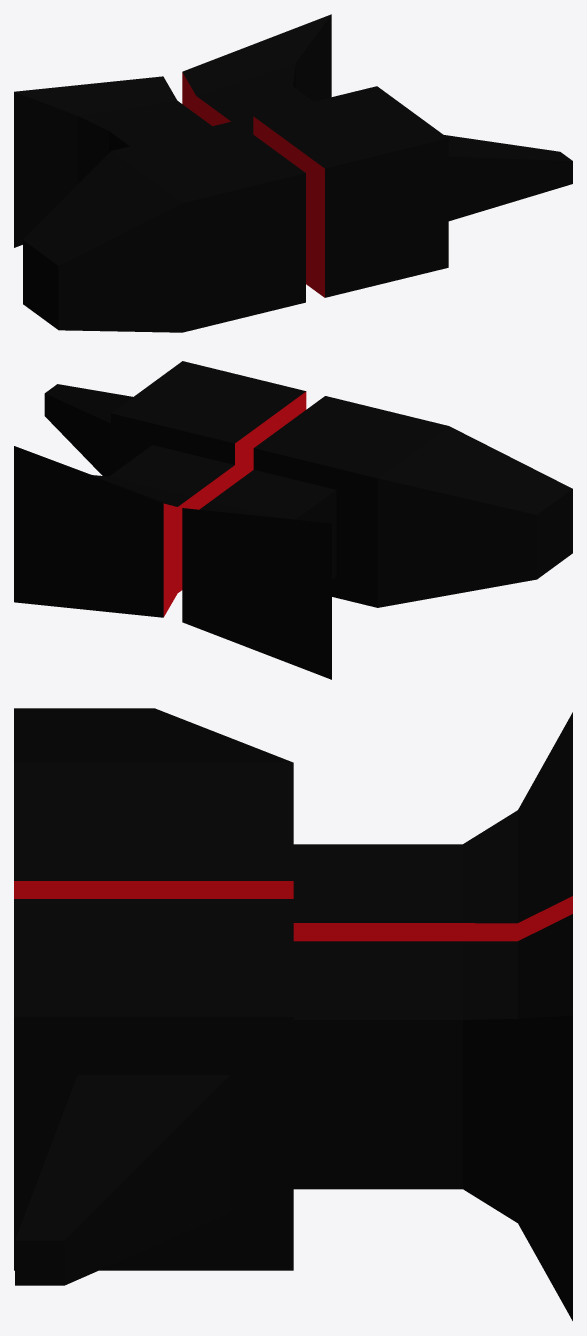
Rendered from ors (1).fbx.
The picture shows the model from 3 angles, top to bottom: view 1: azimuth 30°, elevation 25°; view 2: azimuth 150°, elevation 25°; view 3: azimuth 270°, elevation 25°; orthographic projection. The views are drawn at different scales.
Parts seen in each view (by area): view 1: Cube, Cube.001; view 2: Cube, Cube.001; view 3: Cube.001, Cube.
Boxes of the visible parts, <box> form: Cube: <box>14,76,305,332</box>; Cube.001: <box>182,14,572,297</box>; Cube: <box>182,396,572,679</box>; Cube.001: <box>14,361,306,617</box>; Cube.001: <box>14,899,572,1320</box>; Cube: <box>14,708,572,941</box>.
Bounding box in the file's own units: 832 × 242 × 400.
